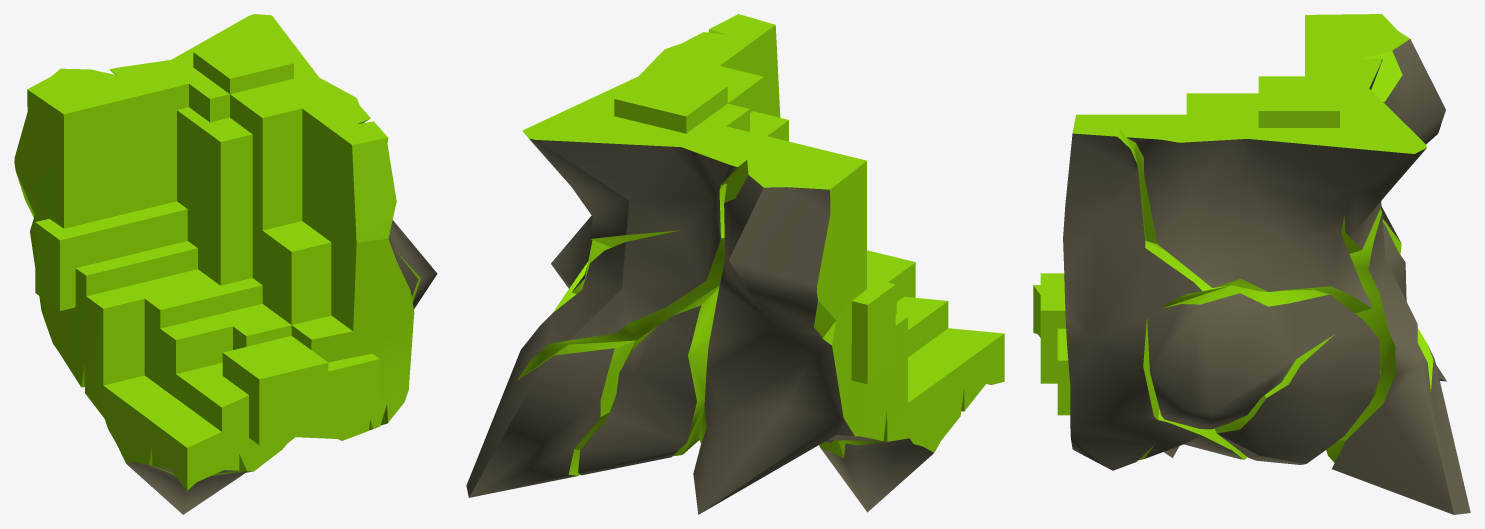
Rendered from obj_harvests_nonepart_tier5_p05.fbx.
3 views of the same model, side by side, from view 1: azimuth 30°, elevation 25°; view 2: azimuth 150°, elevation 25°; view 3: azimuth 270°, elevation 25° (orthographic). The views are drawn at different scales.
Parts seen in each view (by area): view 1: gn_p05.001; view 2: gn_p05.001; view 3: gn_p05.001.
Boxes of the visible parts, x1,y1,x2,y2 form: gn_p05.001: (14, 14, 437, 514); gn_p05.001: (466, 14, 1004, 514); gn_p05.001: (1033, 14, 1470, 514).
Size of the model in its own units: 9.61 by 10.5 by 9.73.
